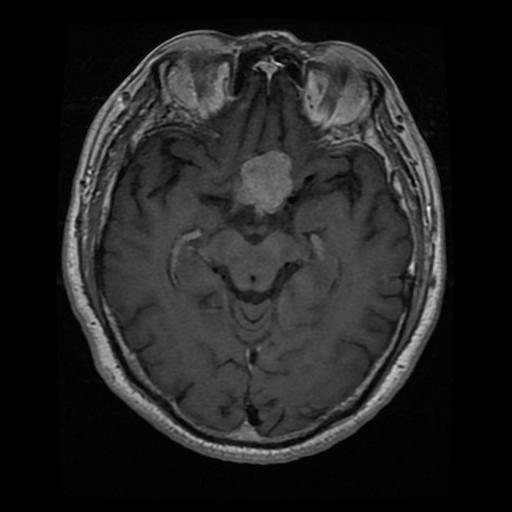Tumour-Pituitary: (239, 153, 296, 216)
